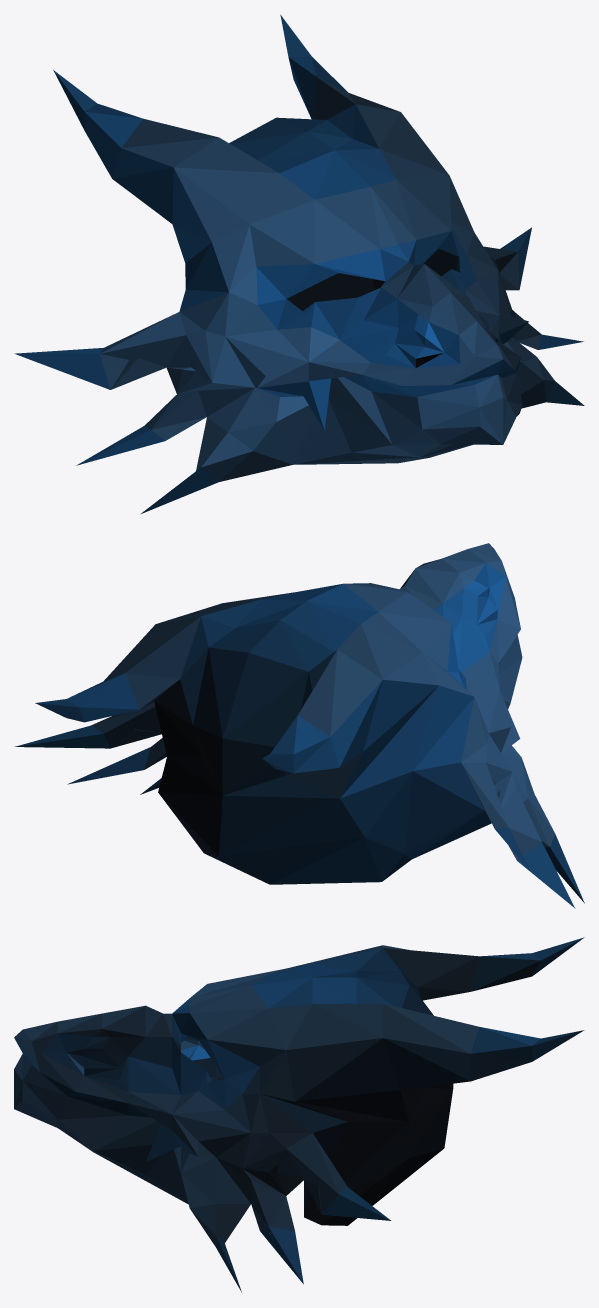
The model's file is blue-dragon-mask.obj.
3 views of the same model, one above another, from view 1: azimuth 30°, elevation 25°; view 2: azimuth 150°, elevation 25°; view 3: azimuth 270°, elevation 25° (orthographic). The views are drawn at different scales.
Visible parts, largest first — view 1: Item Blue dragon mask 2026-09-24_17-11-12; view 2: Item Blue dragon mask 2026-09-24_17-11-12; view 3: Item Blue dragon mask 2026-09-24_17-11-12.
Boxes of the visible parts, bbox=[...] form: Item Blue dragon mask 2026-09-24_17-11-12: bbox=[14, 14, 584, 514]; Item Blue dragon mask 2026-09-24_17-11-12: bbox=[15, 543, 584, 908]; Item Blue dragon mask 2026-09-24_17-11-12: bbox=[14, 937, 584, 1292].
Bounding box in the file's own units: 57 × 29 × 65.
